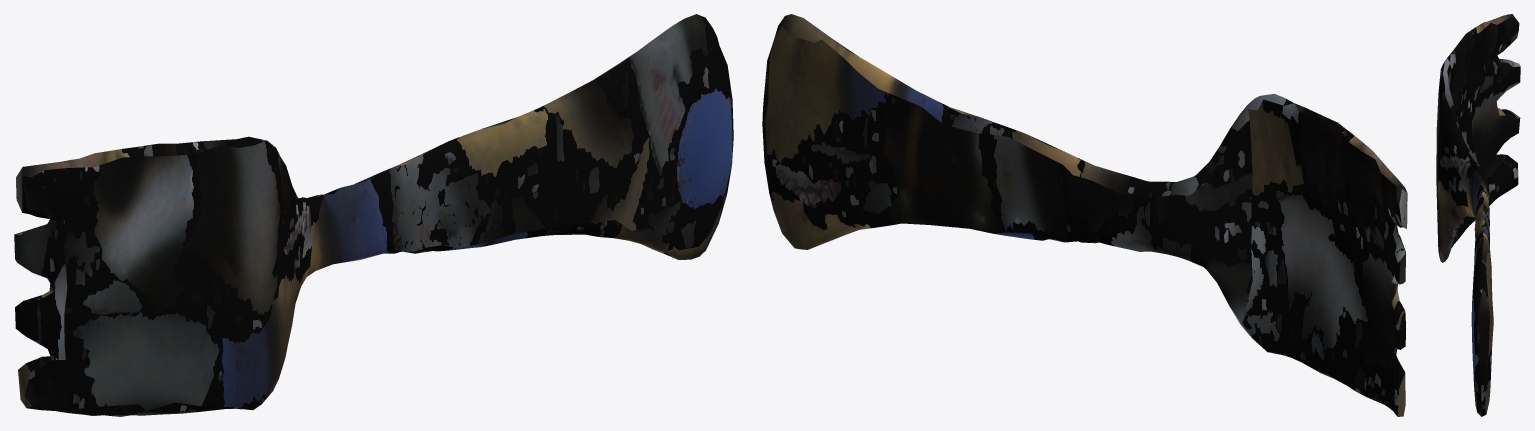
File: final_mesh_cutlery-fork_1.obj
3 views of the same model, side by side, from view 1: azimuth 30°, elevation 25°; view 2: azimuth 150°, elevation 25°; view 3: azimuth 270°, elevation 25° (orthographic). The views are drawn at different scales.
Visible parts, largest first — view 1: geometry_0; view 2: geometry_0; view 3: geometry_0.
Part boxes in pixels (x1,y1,x2,y2): geometry_0: (14,14,733,416); geometry_0: (762,14,1407,416); geometry_0: (1436,14,1520,416).
Size of the model in its own units: 0.2045 by 0.077 by 0.0298.
